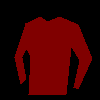abbigliamento_uomo: (14, 16, 92, 95)
